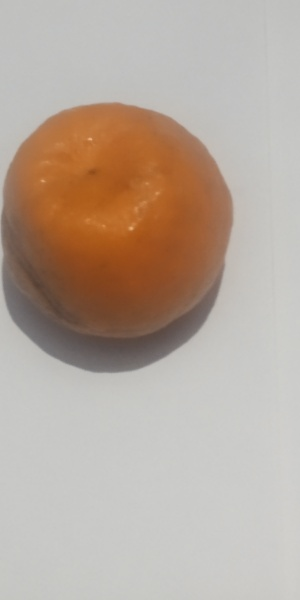BAD: (1, 98, 237, 346)
